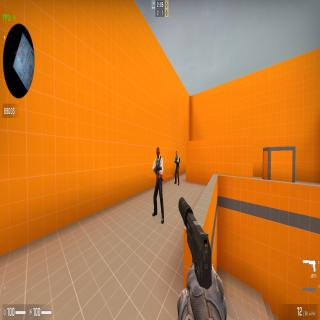T-Body: (152, 146, 164, 224), (174, 151, 180, 185)
T-Head: (156, 146, 160, 158), (176, 151, 177, 157)
